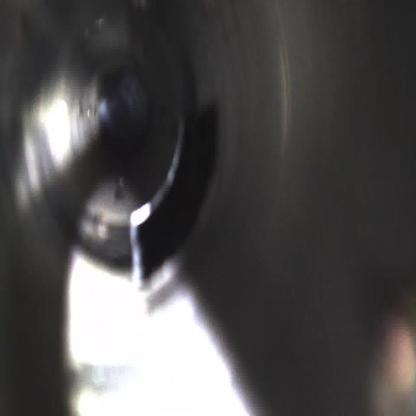Crack2: (126, 97, 223, 288)
